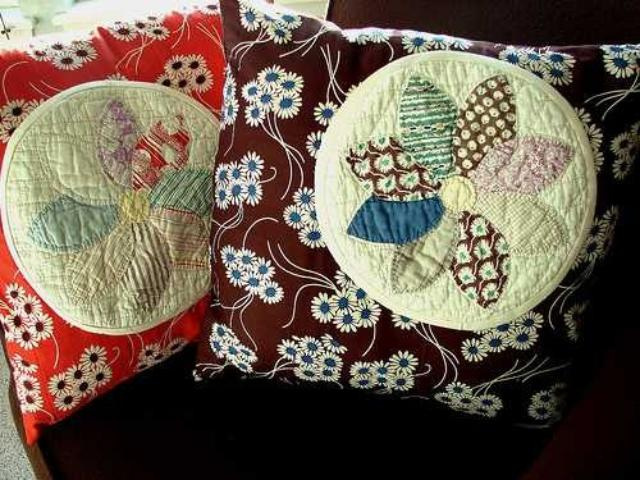pillow: (192, 0, 638, 430), (0, 1, 226, 446)
